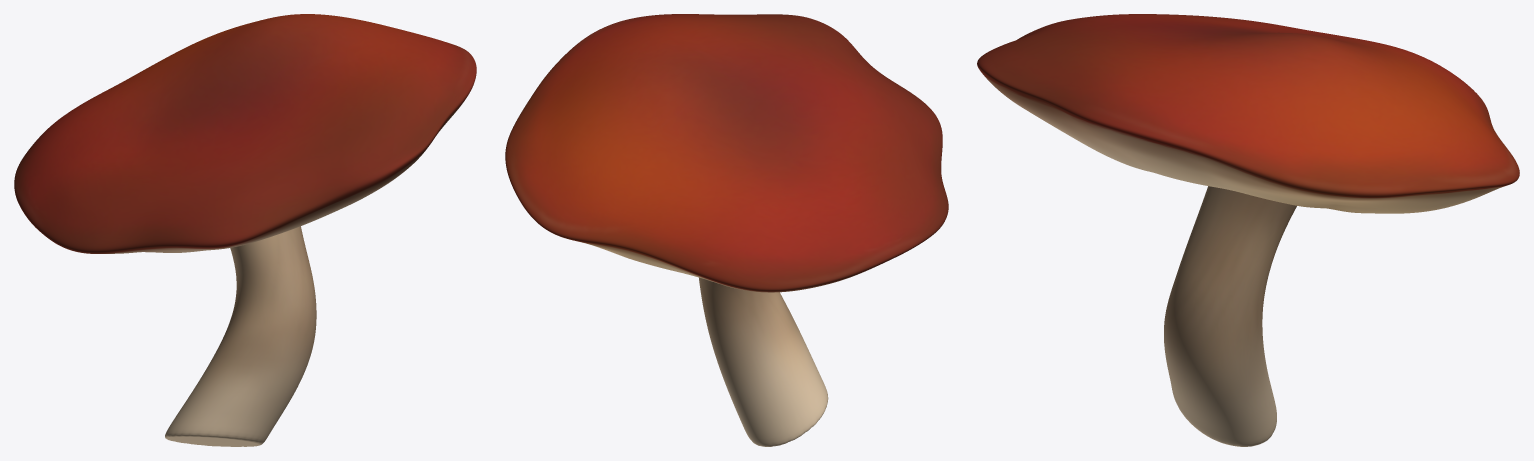
File: shroom3.fbx
The picture shows the model from 3 angles, left to right: view 1: azimuth 30°, elevation 25°; view 2: azimuth 150°, elevation 25°; view 3: azimuth 270°, elevation 25°; orthographic projection. The views are drawn at different scales.
Parts seen in each view (by area): view 1: Merged_PM3D_Cylinder3D1_11; view 2: Merged_PM3D_Cylinder3D1_11; view 3: Merged_PM3D_Cylinder3D1_11.
Boxes of the visible parts, x1,y1,x2,y2 form: Merged_PM3D_Cylinder3D1_11: (14, 14, 476, 446); Merged_PM3D_Cylinder3D1_11: (505, 14, 948, 446); Merged_PM3D_Cylinder3D1_11: (977, 14, 1519, 446).
Size of the model in its own units: 1.53 by 1.4 by 1.53.
